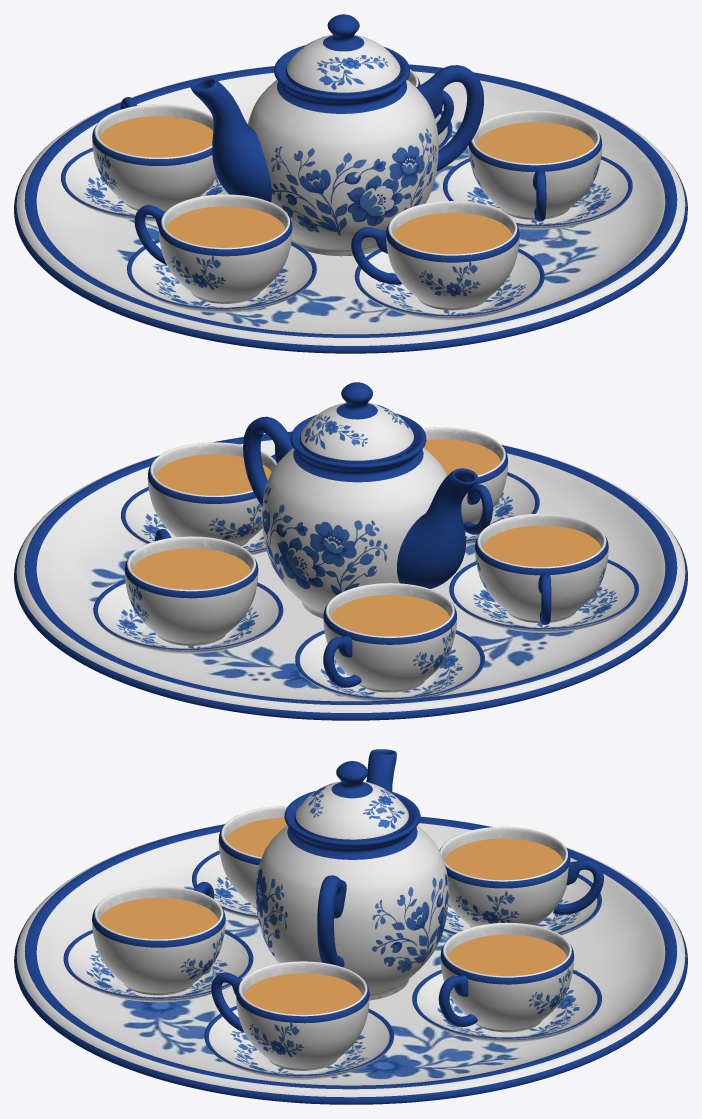
File: tea_set.glb
3 views of the same model, one above another, from view 1: azimuth 30°, elevation 25°; view 2: azimuth 150°, elevation 25°; view 3: azimuth 270°, elevation 25° (orthographic).
Visible parts, largest first — view 1: polySurface52_phong1_0, polySurface52_phong4_0; view 2: polySurface52_phong1_0, polySurface52_phong4_0; view 3: polySurface52_phong1_0, polySurface52_phong4_0.
Part boxes in pixels (x1,y1,x2,y2): polySurface52_phong1_0: (14, 14, 687, 353); polySurface52_phong4_0: (99, 116, 594, 254); polySurface52_phong1_0: (14, 382, 687, 720); polySurface52_phong4_0: (132, 439, 601, 636); polySurface52_phong1_0: (14, 749, 687, 1104); polySurface52_phong4_0: (99, 818, 566, 1014).
Size of the model in its own units: 0.1227 by 0.0451 by 0.1227.
2 materials, 1 textured.
